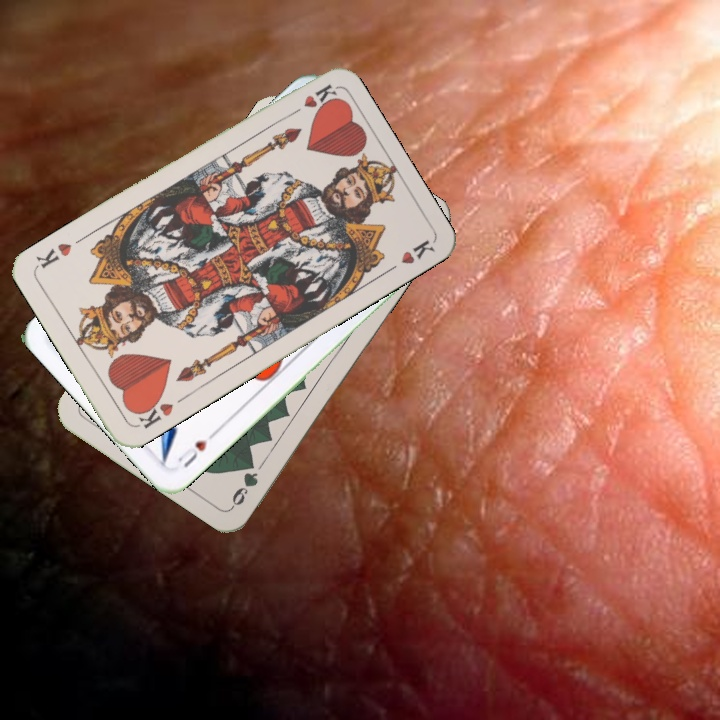G9: (227, 468, 261, 510)
HK: (283, 80, 339, 121), (131, 393, 176, 432)
HU: (173, 427, 219, 471)
